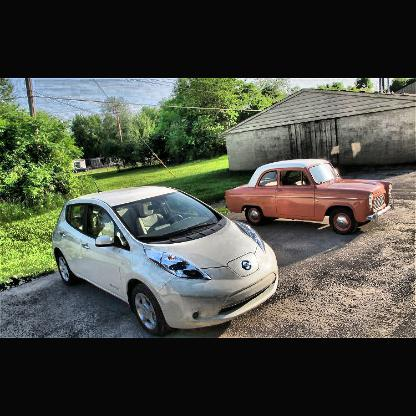Nissan Leaf Hatchback 2012: (54, 186, 281, 335)
